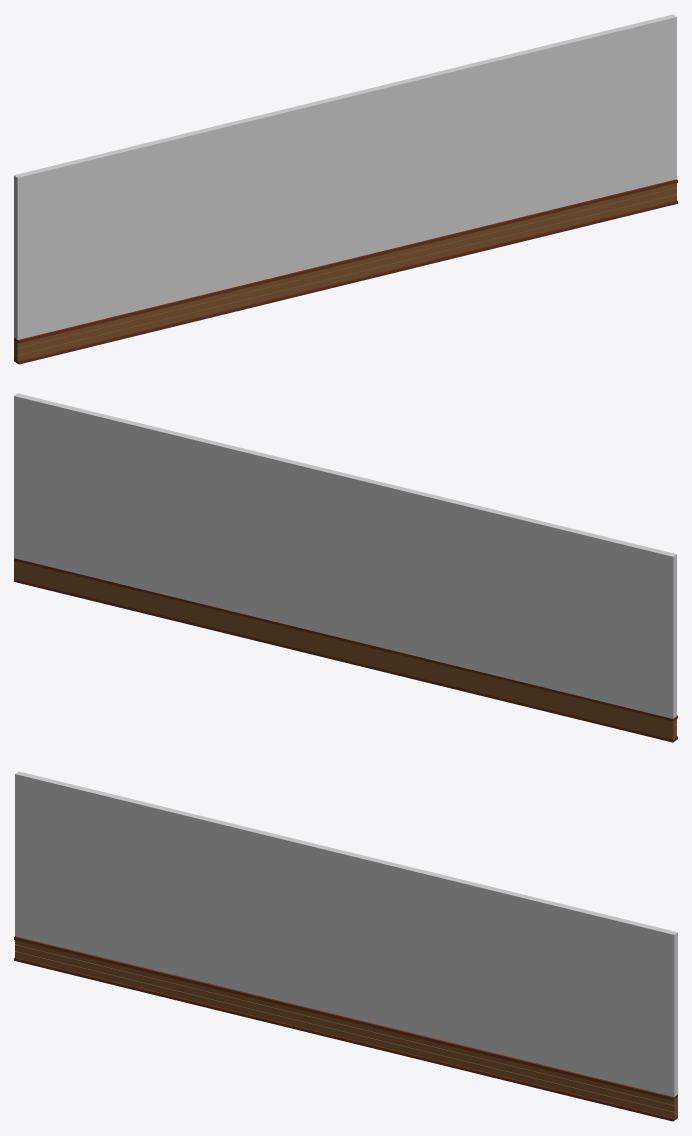
The model's file is Wall_Library.fbx.
The picture shows the model from 3 angles, top to bottom: view 1: azimuth 30°, elevation 25°; view 2: azimuth 150°, elevation 25°; view 3: azimuth 330°, elevation 25°; orthographic projection.
Visible parts, largest first — view 1: Cube.002; view 2: Cube.002; view 3: Cube.002.
Boxes of the visible parts, x1,y1,x2,y2 form: Cube.002: (14, 14, 677, 364); Cube.002: (14, 393, 677, 742); Cube.002: (14, 771, 677, 1121).
Bounding box in the file's own units: 26.45 × 7.13 × 0.3357.
